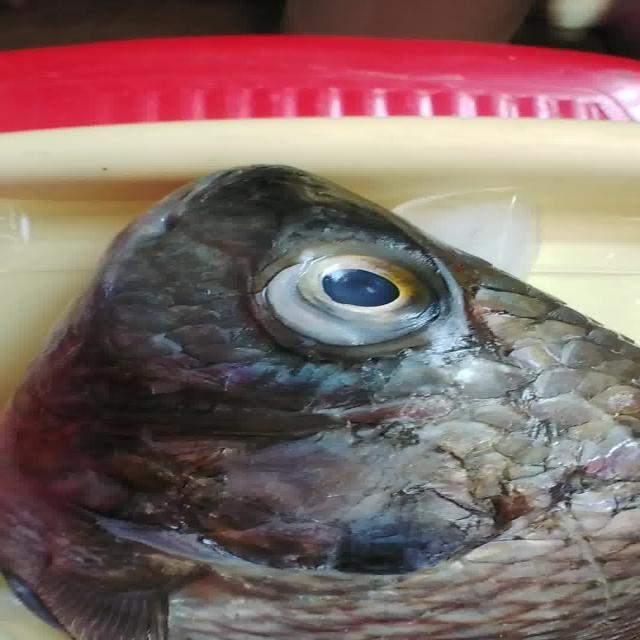Fresh: (235, 229, 486, 363)
